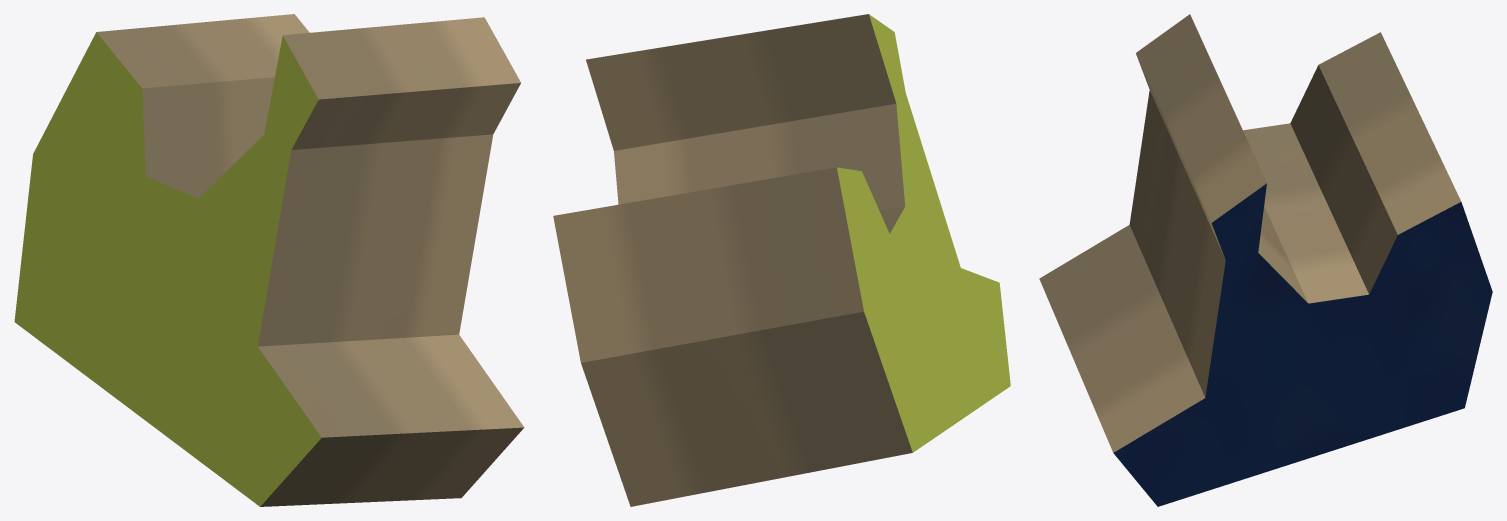
Rendered from 05ec_Haiti.glb.
3 renders of one model, left to right at view 1: azimuth 30°, elevation 25°; view 2: azimuth 150°, elevation 25°; view 3: azimuth 270°, elevation 25°, orthographic. The views are drawn at different scales.
Visible parts, largest first — view 1: part_0; view 2: part_0; view 3: part_0.
Boxes of the visible parts, box(x1,y1,x2,y2) form: part_0: box(14, 14, 524, 506); part_0: box(553, 14, 1010, 506); part_0: box(1039, 14, 1492, 506).
Size of the model in its own units: 0.3049 by 0.3492 by 0.3377.
Materials: 1 (1 with a texture image).
